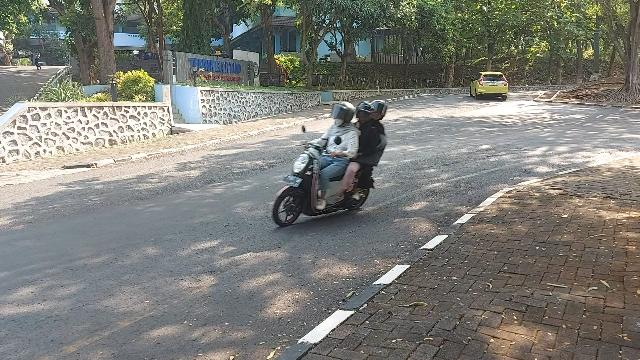helm: (332, 103, 355, 126), (358, 102, 375, 124), (372, 101, 388, 121)
motor: (274, 126, 376, 226)
